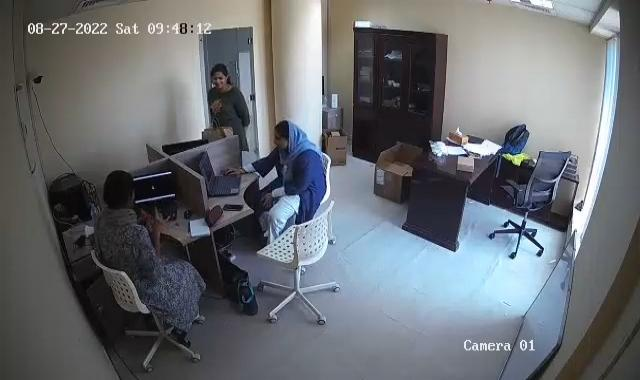no_hairnet: (104, 167, 136, 206), (275, 117, 302, 155), (208, 58, 232, 92)
